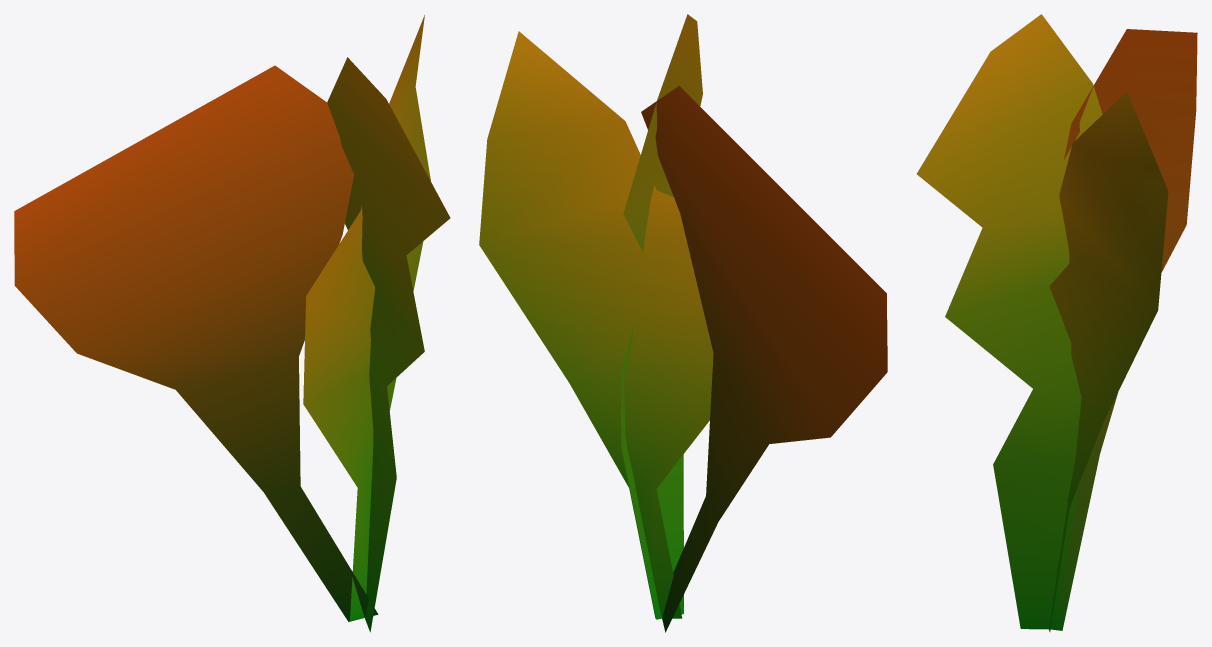
Rendered from Ocean Seaweed_LOD0_Var1_sdDkn.fbx.
3 views of the same model, side by side, from view 1: azimuth 30°, elevation 25°; view 2: azimuth 150°, elevation 25°; view 3: azimuth 270°, elevation 25° (orthographic). The views are drawn at different scales.
Parts seen in each view (by area): view 1: _7f7e_Var1_LOD0; view 2: _7f7e_Var1_LOD0; view 3: _7f7e_Var1_LOD0.
Part boxes in pixels (box(x1,y1,x2,y2)): _7f7e_Var1_LOD0: box(14, 15, 450, 632); _7f7e_Var1_LOD0: box(479, 14, 887, 632); _7f7e_Var1_LOD0: box(917, 14, 1197, 631).
Bounding box in the file's own units: 24.04 × 32.98 × 13.74.
